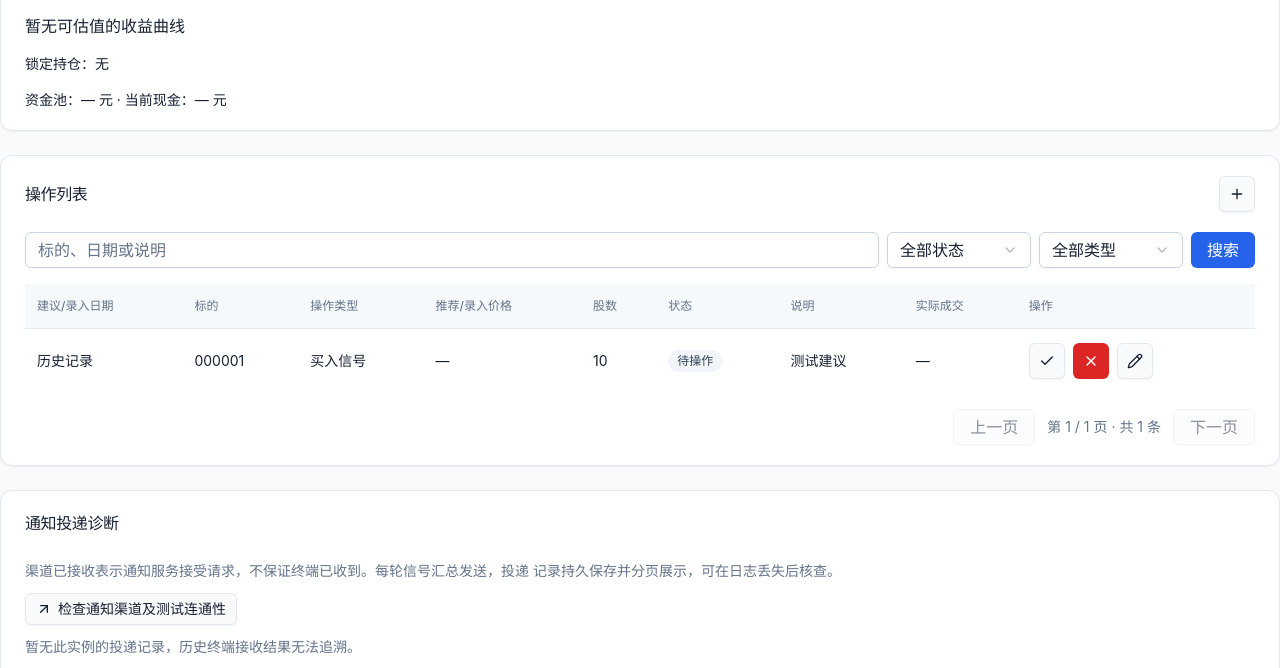
Test case: 实盘建议处理反馈 › 其他页面已处理建议时，冲突后刷新列表并禁用重复操作
The image size is (1280, 668).
(page scrolled)
Click the button named "接受建议" at coordinates (1047, 360), box [1029, 342, 1065, 378]
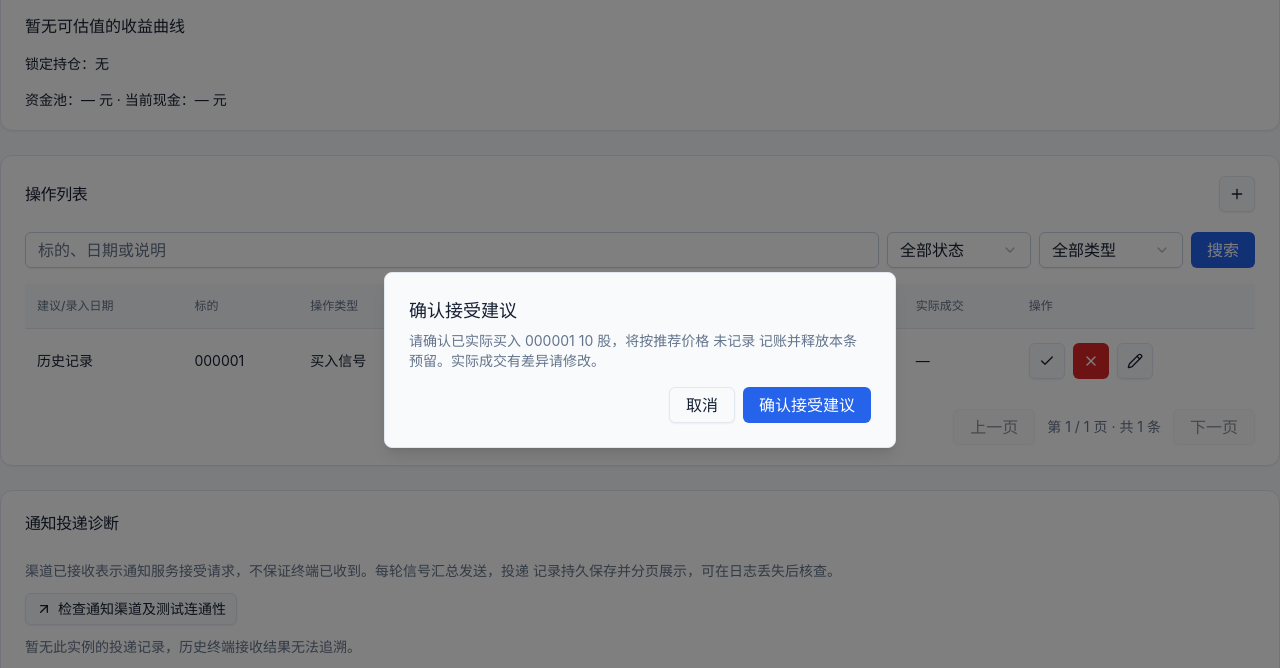
Click the button "确认接受建议" at coordinates (807, 405), box [743, 387, 871, 423]
(page scrolled)
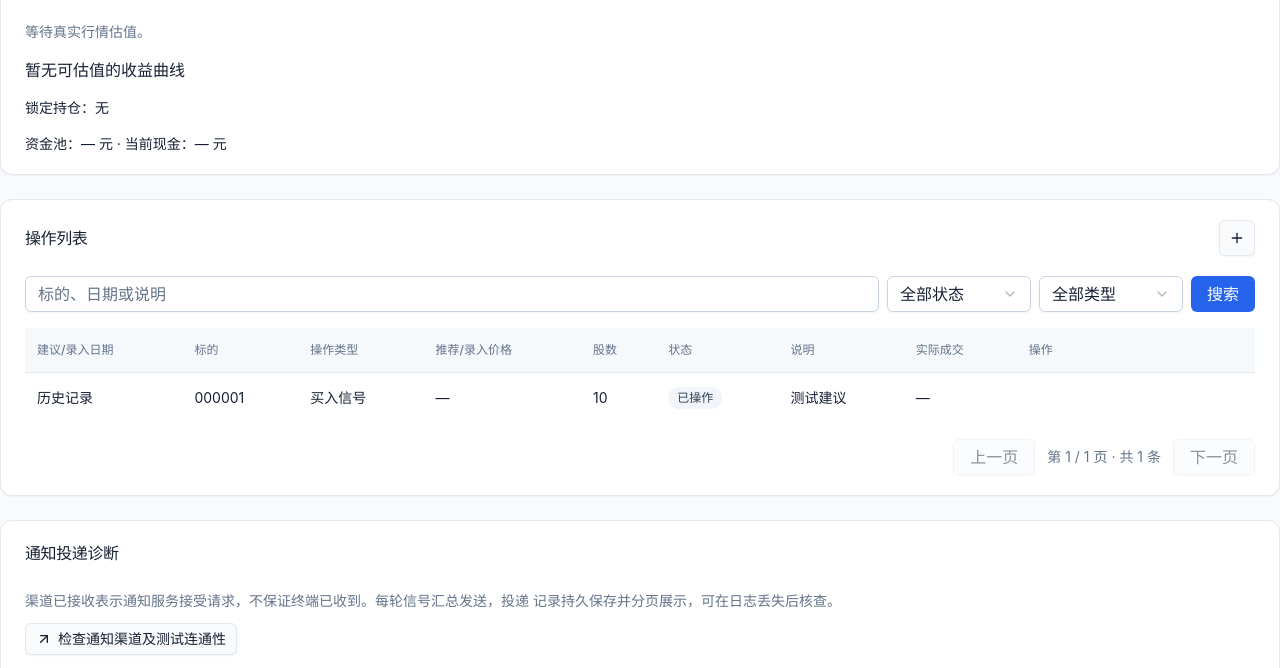
Result: the dialog is gone
Result: the heading "接受建议" is gone
